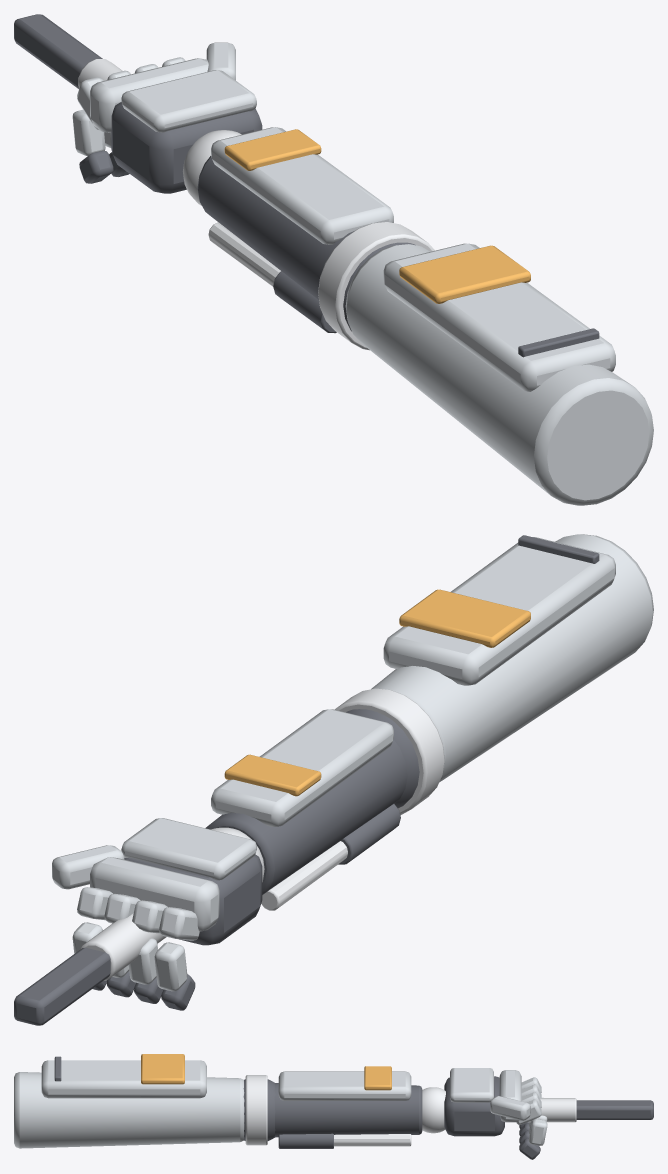
File: dive_arm.glb
3 renders of one model, top to bottom at view 1: azimuth 30°, elevation 25°; view 2: azimuth 150°, elevation 25°; view 3: azimuth 270°, elevation 25°, orthographic. The views are drawn at different scales.
Visible parts, largest first — view 1: Dive Arm; view 2: Dive Arm; view 3: Dive Arm.
Boxes of the visible parts, left/top/right/bottom form: Dive Arm: left=14, top=14, right=653, bottom=505; Dive Arm: left=14, top=534, right=653, bottom=1025; Dive Arm: left=14, top=1054, right=653, bottom=1159.
Bounding box in the file's own units: 0.1765 × 0.1617 × 1.16.
